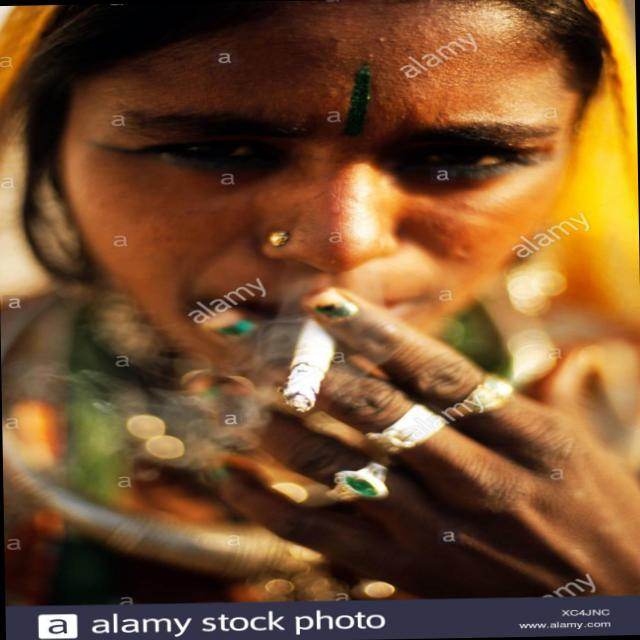cigarette: (285, 310, 339, 428)
